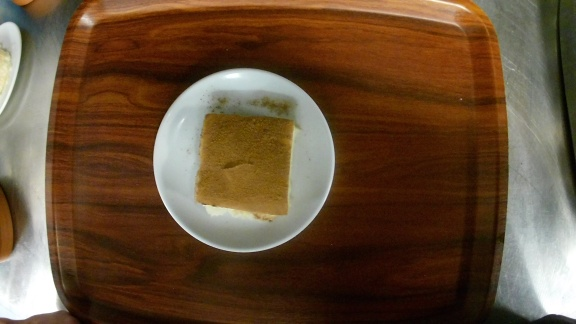tiramisu: (153, 67, 335, 251)
